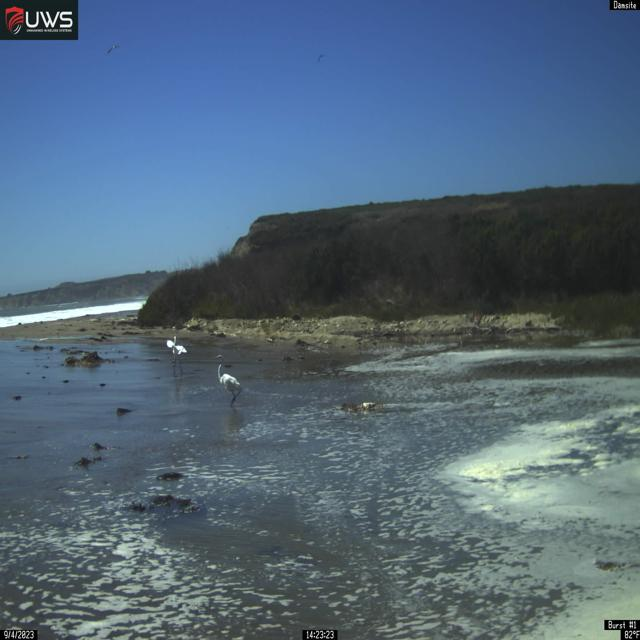bird: (211, 354, 244, 408)
